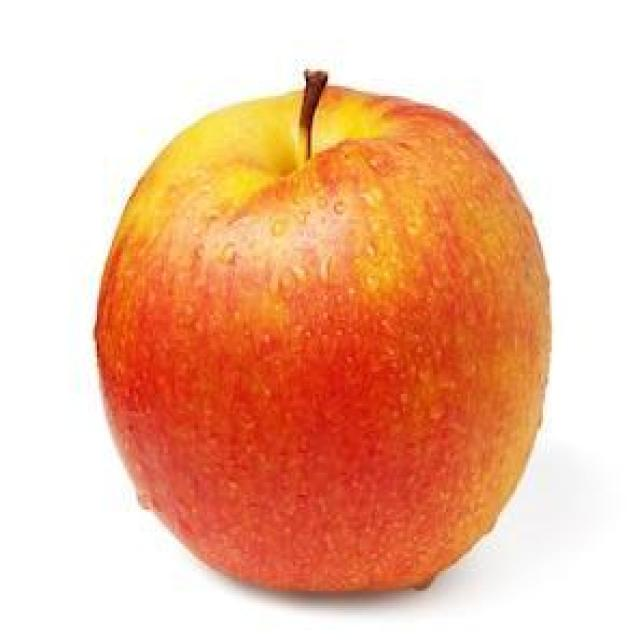apple: (92, 70, 558, 596)
